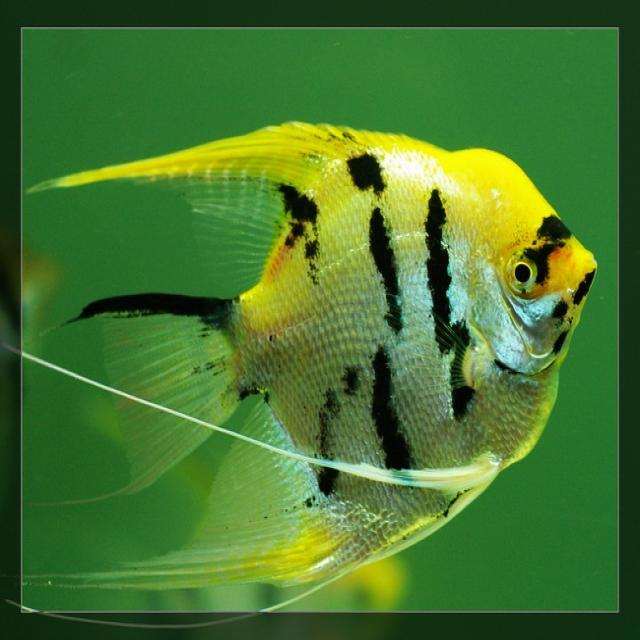AngelFish: (16, 117, 592, 594)
